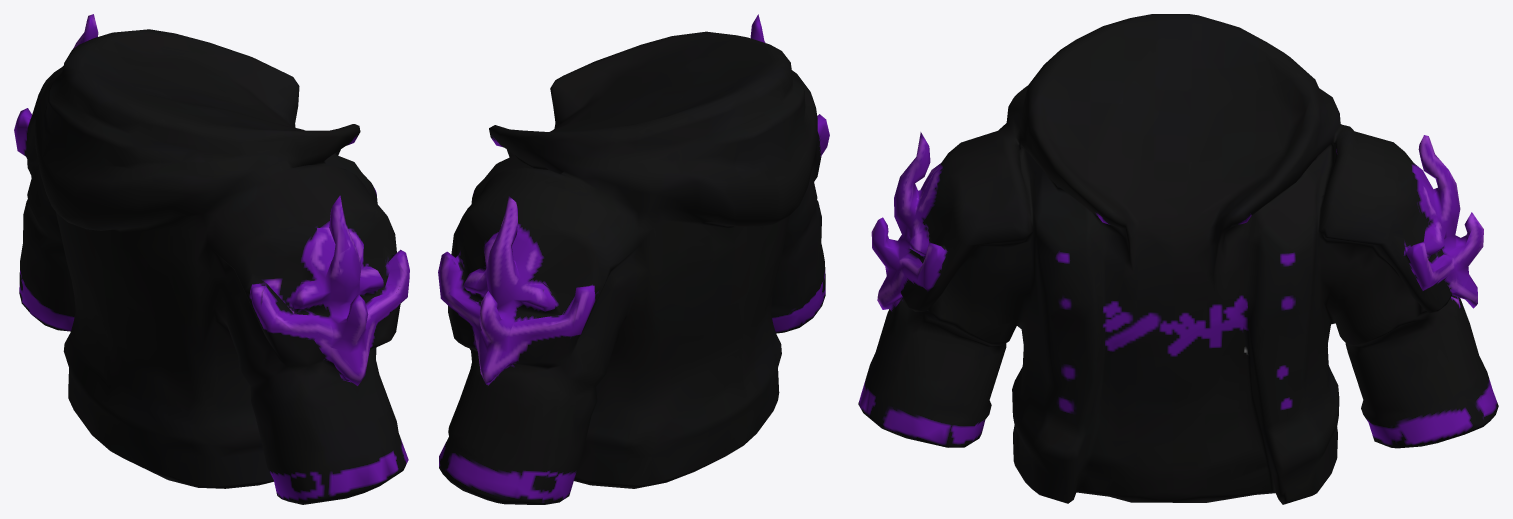
File: Torso.glb
The picture shows the model from 3 angles, left to right: view 1: azimuth 30°, elevation 25°; view 2: azimuth 150°, elevation 25°; view 3: azimuth 270°, elevation 25°; orthographic projection.
Visible parts, largest first — view 1: Body; view 2: Body; view 3: Body.
Part boxes in pixels (x1,y1,x2,y2): Body: (14,14,409,504); Body: (438,14,829,504); Body: (858,14,1498,504).
Size of the model in its own units: 0.0606 by 0.0777 by 0.1195.
1 material, 1 textured.
